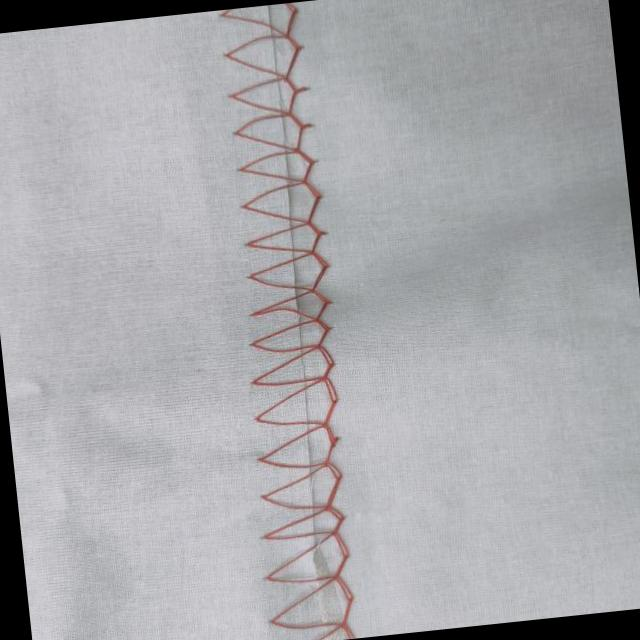seam: (192, 0, 373, 640)
